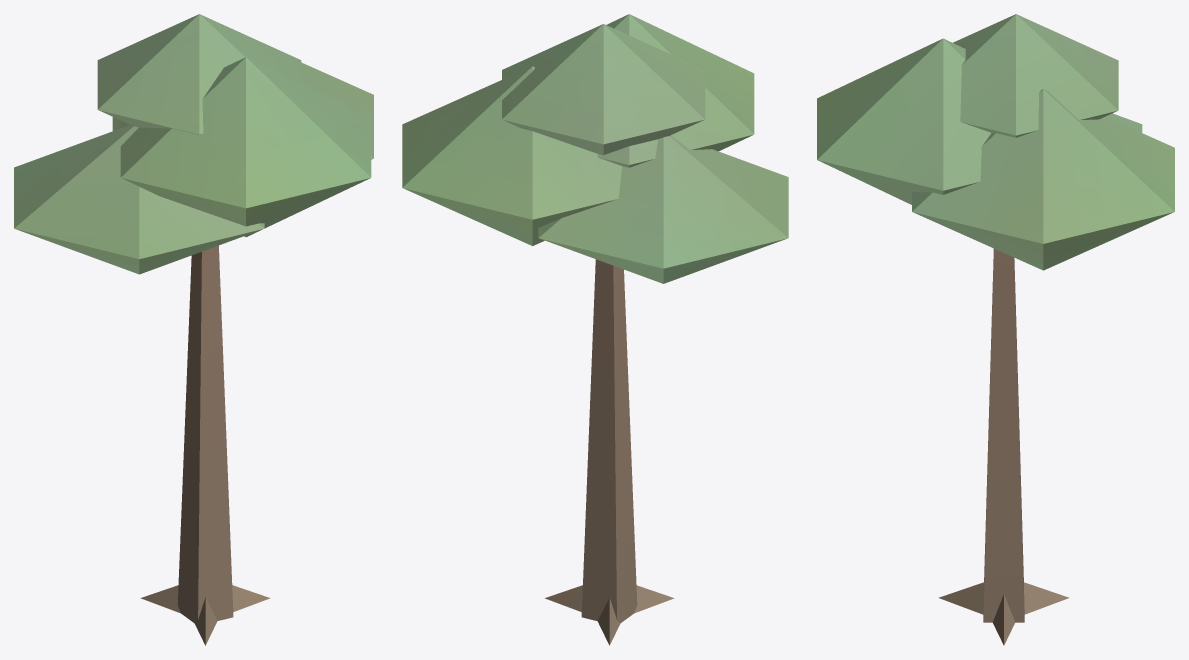
File: canopy-1.glb
The picture shows the model from 3 angles, left to right: view 1: azimuth 30°, elevation 25°; view 2: azimuth 150°, elevation 25°; view 3: azimuth 270°, elevation 25°; orthographic projection.
Size of the model in its own units: 2.68 by 4.09 by 2.21.
